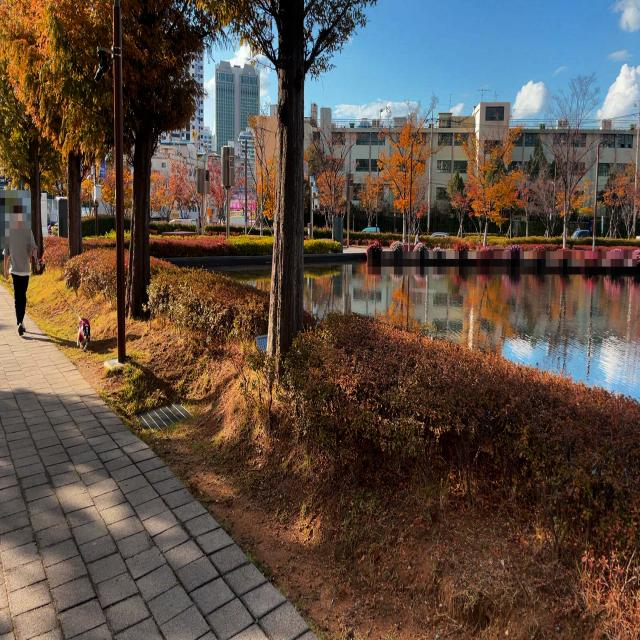Leashed_Dog: (23, 243, 90, 351)
